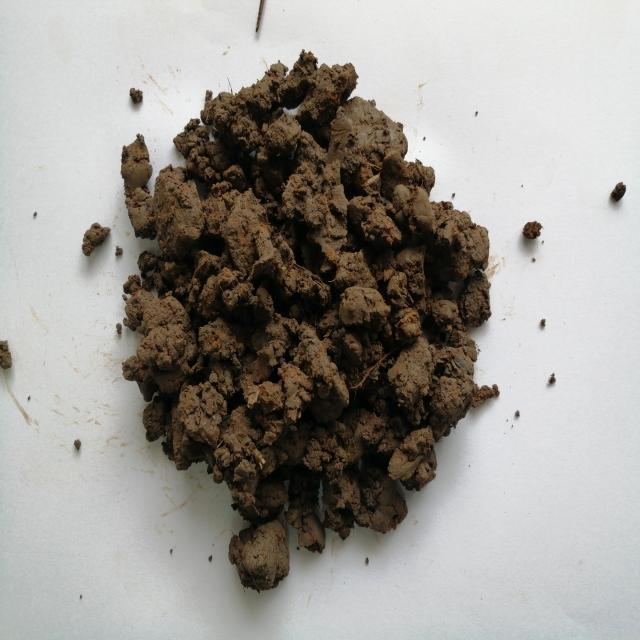soil: (179, 150, 421, 463)
